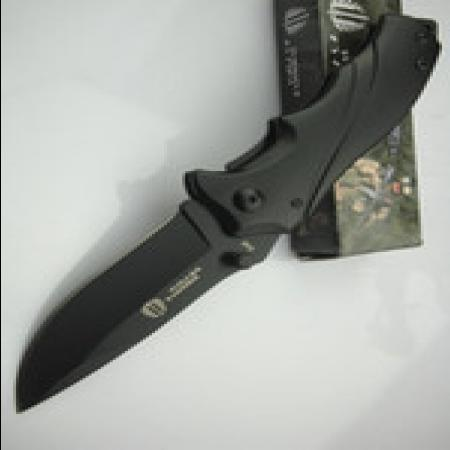long weapon: (9, 193, 275, 423)
